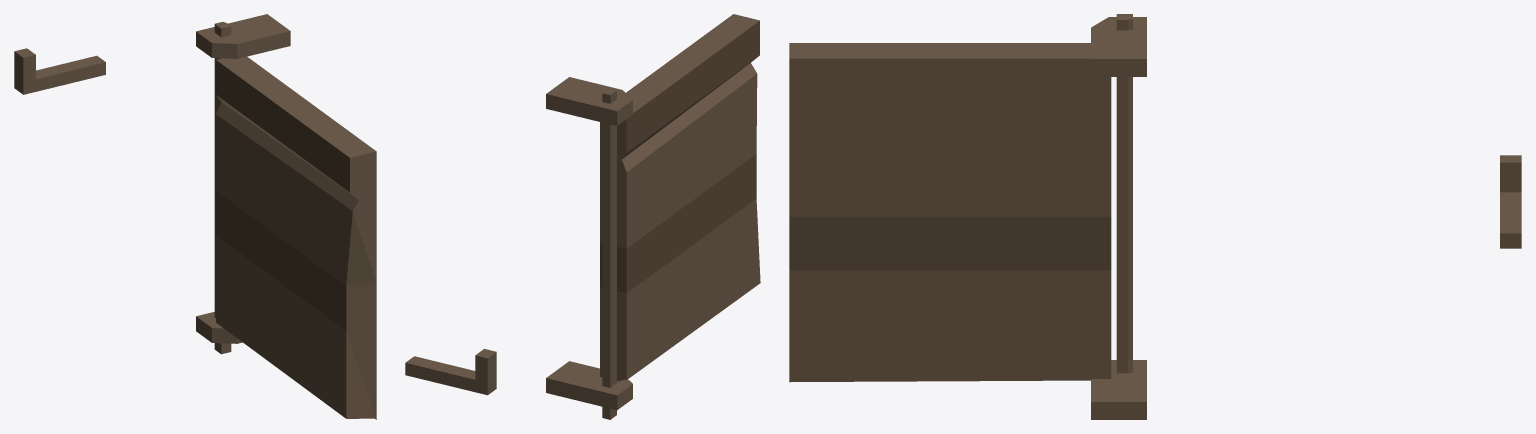
File: EA03_Prop_House_Shutter_01c.glb
3 views of the same model, side by side, from view 1: azimuth 30°, elevation 25°; view 2: azimuth 150°, elevation 25°; view 3: azimuth 270°, elevation 25° (orthographic). The views are drawn at different scales.
Parts seen in each view (by area): view 1: EA03_Prop_House_Shutter_01c; view 2: EA03_Prop_House_Shutter_01c; view 3: EA03_Prop_House_Shutter_01c.
Part boxes in pixels (x1,y1,x2,y2): EA03_Prop_House_Shutter_01c: (14,14,376,419); EA03_Prop_House_Shutter_01c: (405,14,760,419); EA03_Prop_House_Shutter_01c: (789,14,1521,419).
Bounding box in the file's own units: 0.5016 × 1.61 × 2.72.
1 material, 1 textured.
